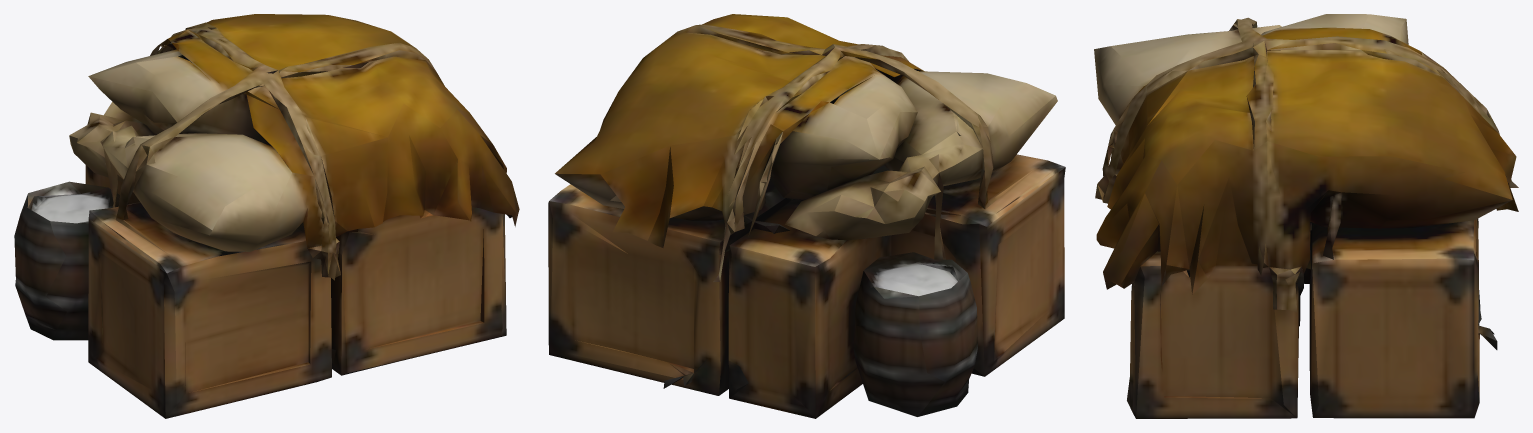
File: prop-cargo-load.glb
The picture shows the model from 3 angles, left to right: view 1: azimuth 30°, elevation 25°; view 2: azimuth 150°, elevation 25°; view 3: azimuth 270°, elevation 25°; orthographic projection. The views are drawn at different scales.
Visible parts, largest first — view 1: prop-cargo-load; view 2: prop-cargo-load; view 3: prop-cargo-load.
Part boxes in pixels (left/top/right/bottom): prop-cargo-load: left=14, top=14, right=519, bottom=418; prop-cargo-load: left=548, top=14, right=1065, bottom=418; prop-cargo-load: left=1094, top=14, right=1518, bottom=418.
Bounding box in the file's own units: 0.9364 × 0.636 × 0.8534.
Materials: 1 (1 with a texture image).
